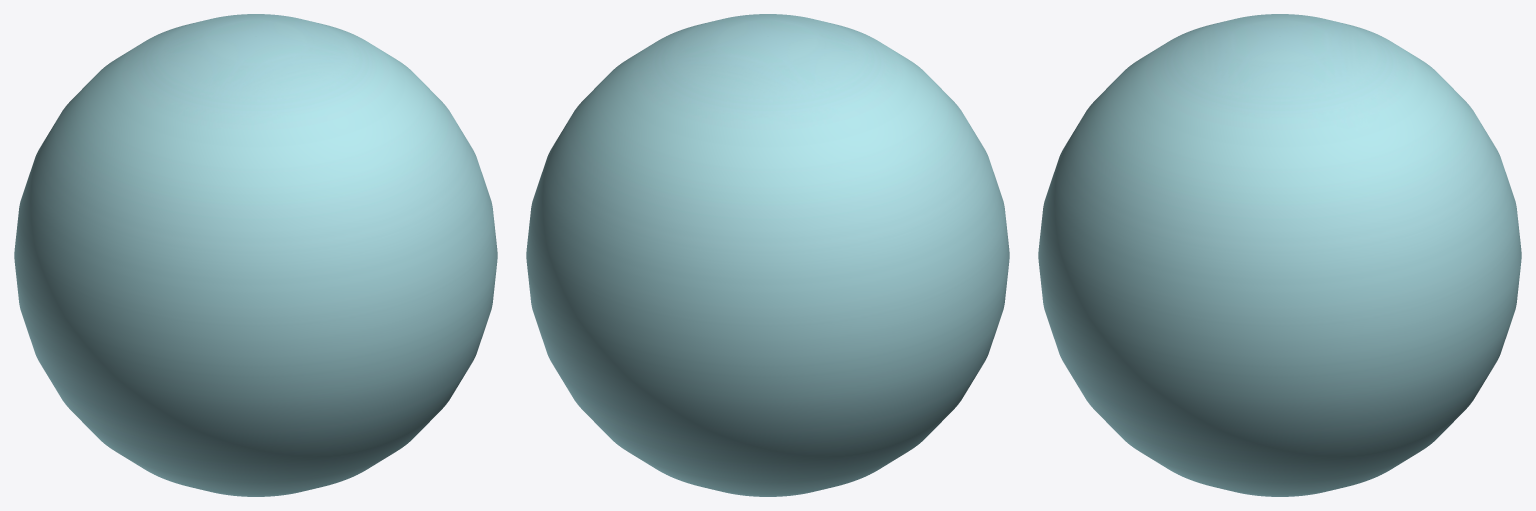
File: Uranus.fbx
The picture shows the model from 3 angles, left to right: view 1: azimuth 30°, elevation 25°; view 2: azimuth 150°, elevation 25°; view 3: azimuth 270°, elevation 25°; orthographic projection.
Parts seen in each view (by area): view 1: Sphere; view 2: Sphere; view 3: Sphere.
Boxes of the visible parts, <box> form: Sphere: <box>14,14,497,496</box>; Sphere: <box>526,14,1009,496</box>; Sphere: <box>1038,14,1521,496</box>.
Size of the model in its own units: 200 by 200 by 200.
Materials: 1 (1 with a texture image).
